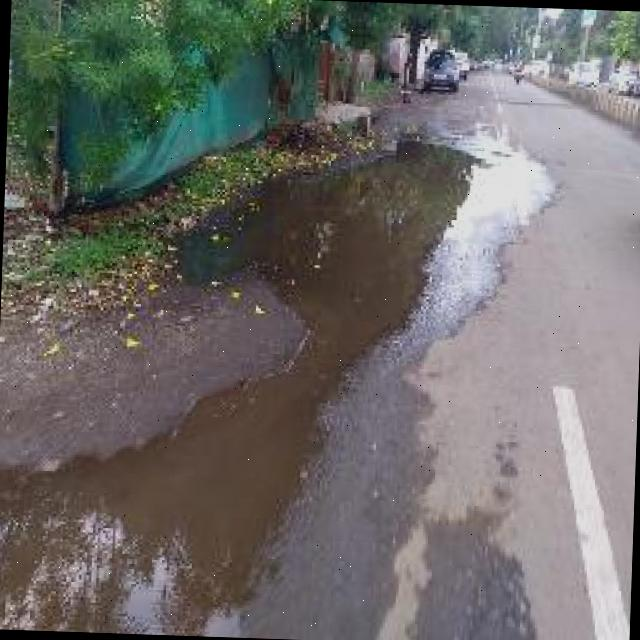stagnation: (0, 333, 344, 640), (161, 139, 448, 333)
